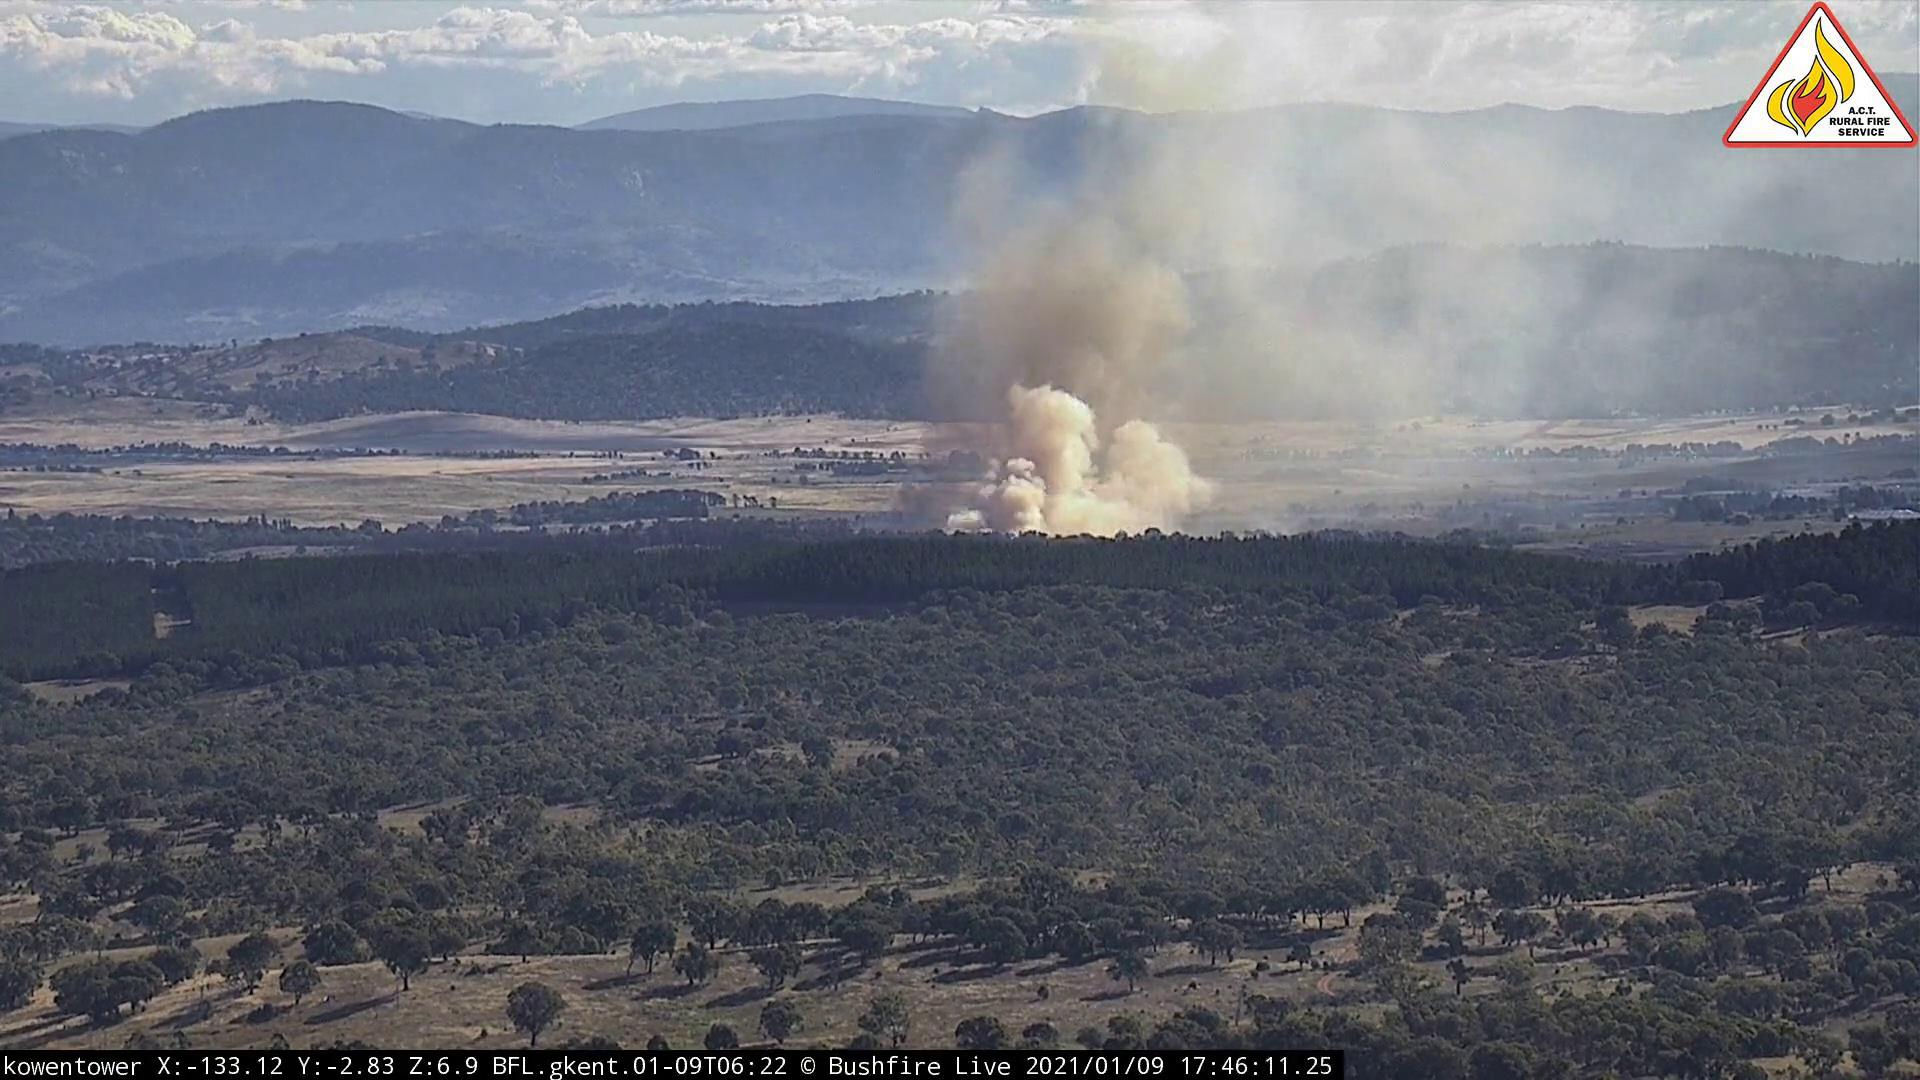Smoke: (906, 13, 1720, 545)
